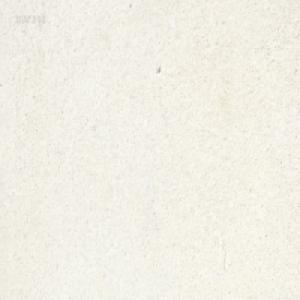Wrench: (201, 0, 208, 5)
